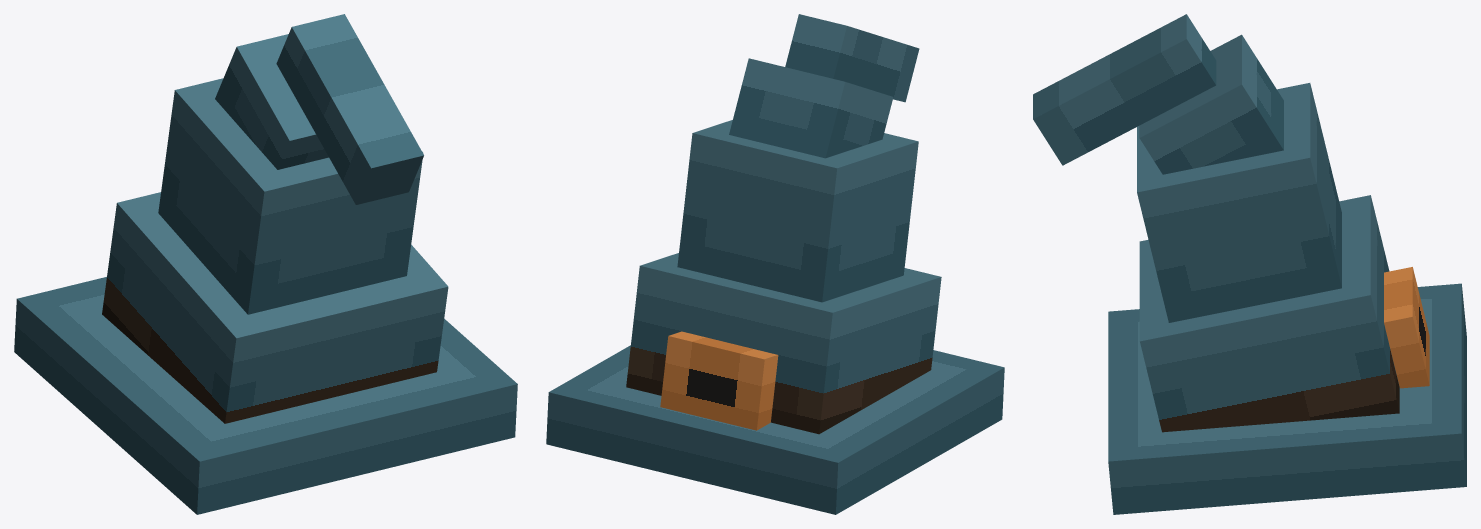
The model's file is mage_hat.glb.
3 renders of one model, left to right at view 1: azimuth 30°, elevation 25°; view 2: azimuth 150°, elevation 25°; view 3: azimuth 270°, elevation 25°, orthographic. The views are drawn at different scales.
Parts seen in each view (by area): view 1: mage_hat_part_0, mage_hat_part_1, mage_hat_part_2, mage_hat_part_4, mage_hat_part_3; view 2: mage_hat_part_0, mage_hat_part_2, mage_hat_part_1, mage_hat_part_3, mage_hat_part_6, mage_hat_part_4; view 3: mage_hat_part_0, mage_hat_part_1, mage_hat_part_2, mage_hat_part_4, mage_hat_part_3, mage_hat_part_6.
Boxes of the visible parts, bbox=[...] form: mage_hat_part_0: bbox=[14, 277, 517, 514]; mage_hat_part_1: bbox=[102, 192, 448, 423]; mage_hat_part_2: bbox=[158, 78, 422, 314]; mage_hat_part_4: bbox=[276, 14, 423, 204]; mage_hat_part_3: bbox=[215, 34, 328, 169]; mage_hat_part_0: bbox=[546, 345, 1004, 514]; mage_hat_part_2: bbox=[677, 120, 918, 302]; mage_hat_part_1: bbox=[626, 253, 941, 434]; mage_hat_part_3: bbox=[729, 58, 893, 158]; mage_hat_part_6: bbox=[660, 331, 778, 430]; mage_hat_part_4: bbox=[785, 14, 919, 102]; mage_hat_part_0: bbox=[1108, 283, 1466, 514]; mage_hat_part_1: bbox=[1139, 195, 1399, 432]; mage_hat_part_2: bbox=[1137, 83, 1341, 322]; mage_hat_part_4: bbox=[1033, 14, 1216, 165]; mage_hat_part_3: bbox=[1139, 34, 1283, 174]; mage_hat_part_6: bbox=[1384, 267, 1429, 388].
Bounding box in the file's own units: 0.75 × 0.9642 × 0.917.
Materials: 1 (1 with a texture image).
